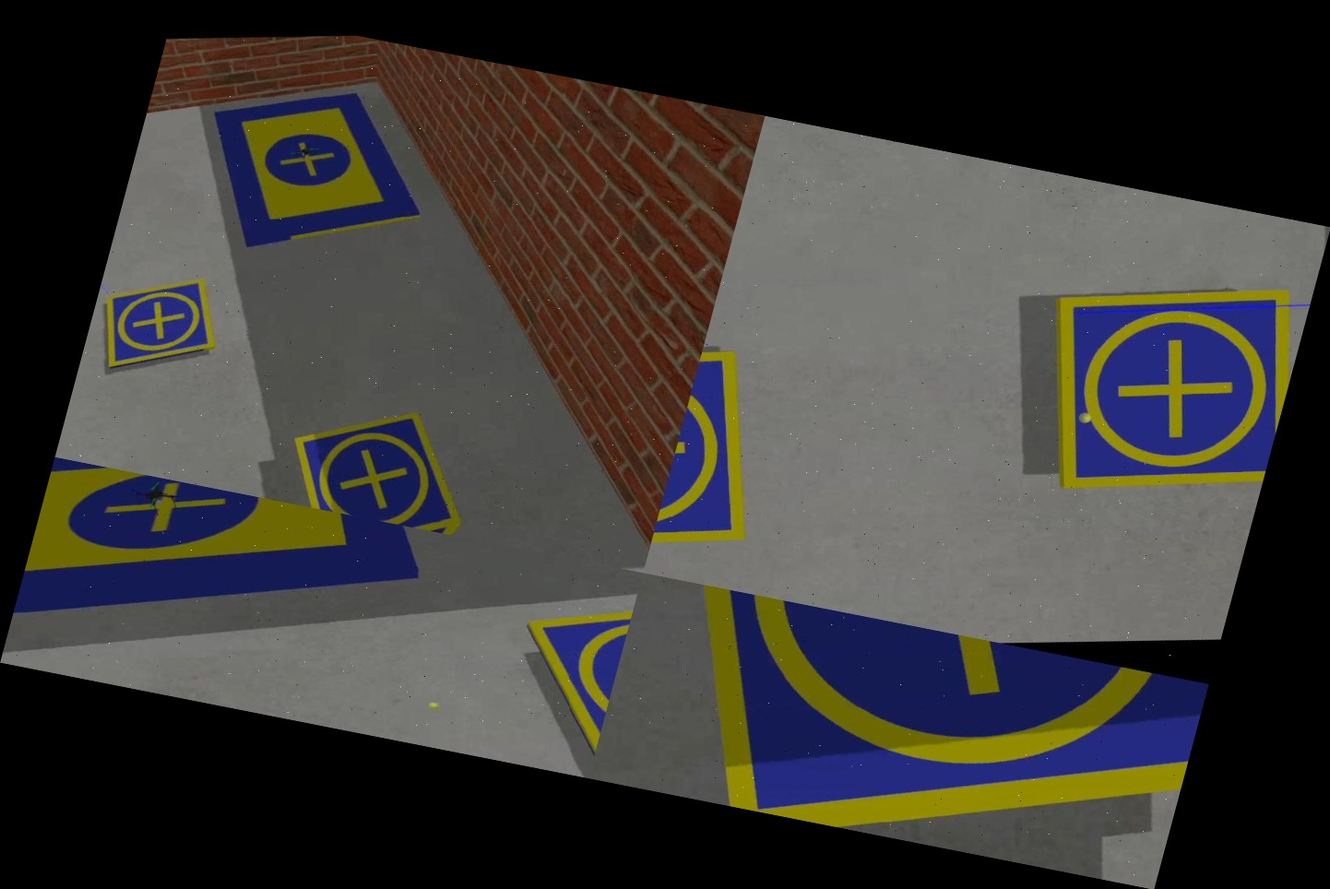large_base: (8, 457, 435, 707), (174, 54, 462, 286)
small_base: (588, 573, 1207, 889), (1006, 246, 1312, 526), (643, 340, 794, 590), (485, 552, 643, 777), (272, 383, 499, 539), (79, 256, 237, 391)
